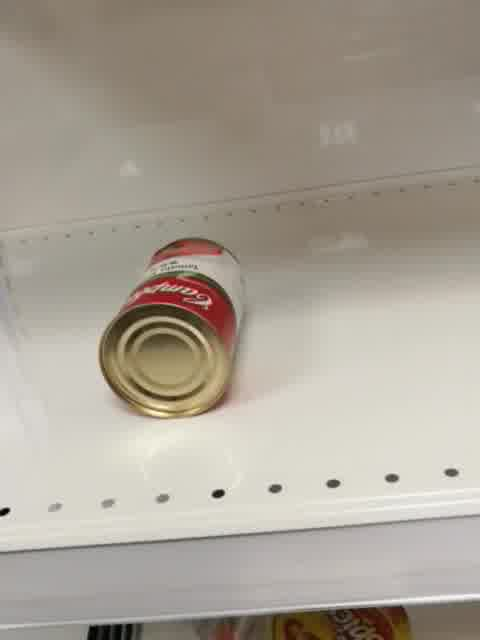tomatosoup: (96, 234, 245, 418)
